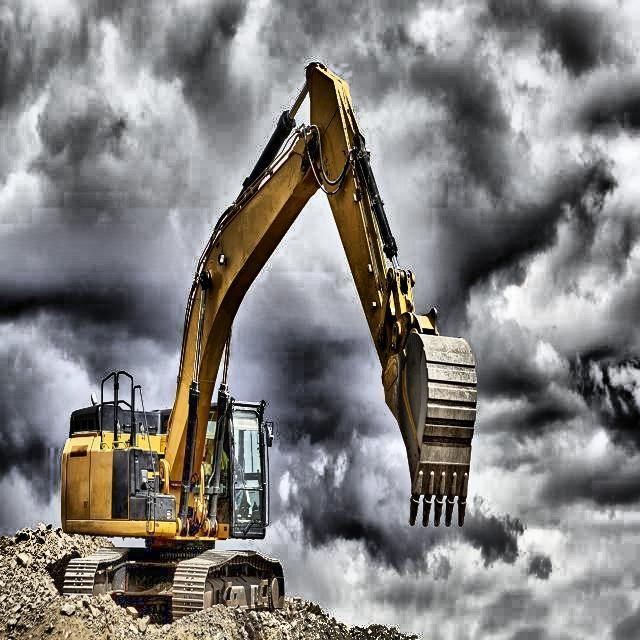excavator: (56, 59, 478, 623)
